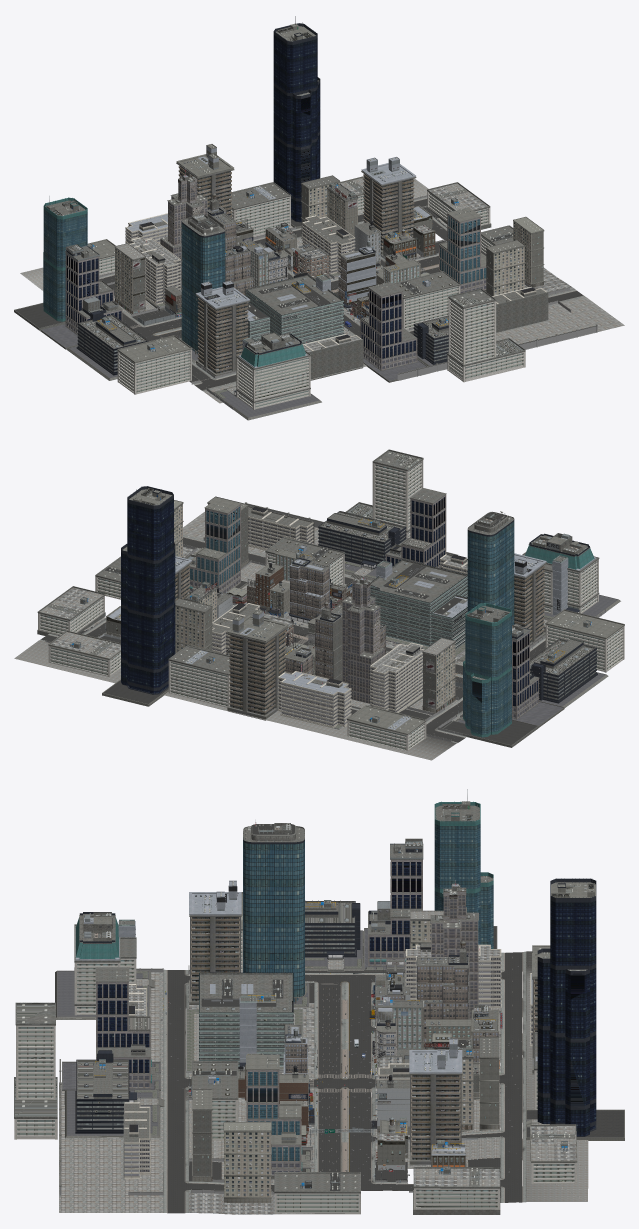
Rendered from city3.glb.
3 views of the same model, one above another, from view 1: azimuth 30°, elevation 25°; view 2: azimuth 150°, elevation 25°; view 3: azimuth 270°, elevation 25° (orthographic). The views are drawn at different scales.
Visible parts, largest first — view 1: Object_20, Object_112, Object_9, Object_183, Object_7, Object_145, Object_151, Object_206, Object_102, Object_138, Object_174, Object_160 (+16 smaller); view 2: Object_20, Object_112, Object_9, Object_183, Object_7, Object_145, Object_177, Object_151, Object_206, Object_174, Object_136, Object_102 (+14 smaller); view 3: Object_20, Object_102, Object_206, Object_9, Object_183, Object_112, Object_145, Object_7, Object_151, Object_188, Object_136, Object_174 (+21 smaller).
Boxes of the visible parts, <box> form: Object_20: <box>14,176,597,420</box>; Object_112: <box>99,191,525,409</box>; Object_9: <box>66,35,415,358</box>; Object_183: <box>43,209,486,353</box>; Object_7: <box>65,175,486,370</box>; Object_145: <box>87,23,544,406</box>; Object_151: <box>176,162,416,375</box>; Object_206: <box>20,178,624,403</box>; Object_102: <box>15,199,583,389</box>; Object_138: <box>111,146,430,399</box>; Object_174: <box>78,183,448,371</box>; Object_160: <box>115,182,531,310</box>; Object_20: <box>37,449,620,747</box>; Object_112: <box>38,460,624,750</box>; Object_9: <box>121,497,537,706</box>; Object_183: <box>190,507,514,734</box>; Object_7: <box>189,494,538,718</box>; Object_145: <box>48,488,624,734</box>; Object_177: <box>212,509,467,728</box>; Object_151: <box>175,561,546,720</box>; Object_206: <box>14,512,548,760</box>; Object_174: <box>191,520,595,699</box>; Object_136: <box>105,486,597,703</box>; Object_102: <box>41,512,545,745</box>; Object_20: <box>14,801,574,1214</box>; Object_102: <box>167,824,624,1213</box>; Object_206: <box>59,911,588,1212</box>; Object_9: <box>97,862,596,1136</box>; Object_183: <box>243,824,493,1160</box>; Object_112: <box>14,930,576,1214</box>; Object_145: <box>83,882,624,1203</box>; Object_7: <box>96,860,478,1175</box>; Object_151: <box>189,915,537,1165</box>; Object_188: <box>163,951,526,1213</box>; Object_136: <box>75,839,596,1136</box>; Object_174: <box>77,900,472,1148</box>.
Size of the model in its own units: 167 by 70.39 by 151.
100 materials, 99 textured.
